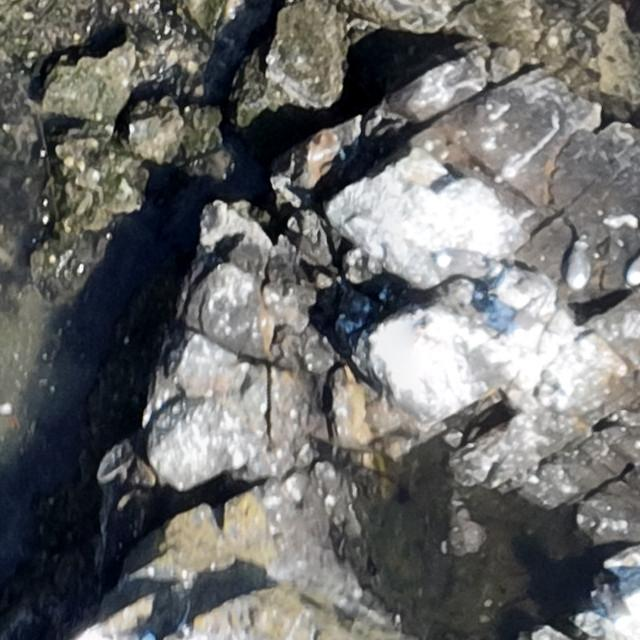umineko: (510, 308, 546, 346), (568, 240, 591, 290), (434, 251, 482, 272), (627, 256, 640, 284)
